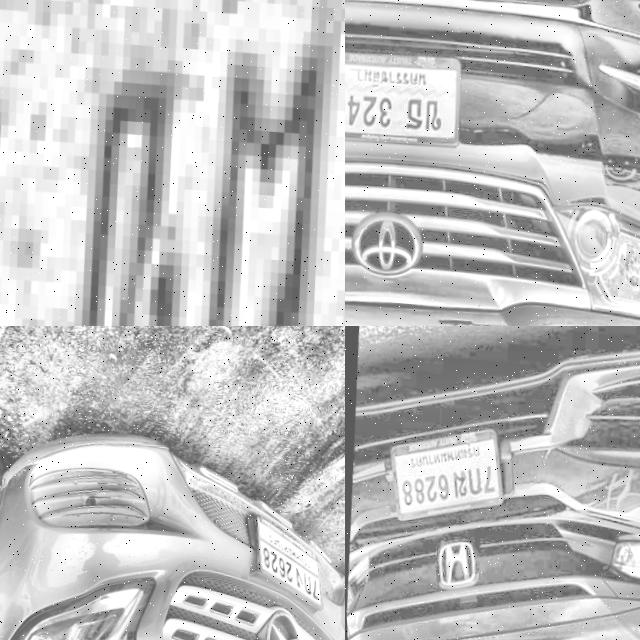license-plate: (0, 0, 345, 326), (378, 413, 512, 534), (345, 42, 464, 150), (233, 501, 330, 619)
